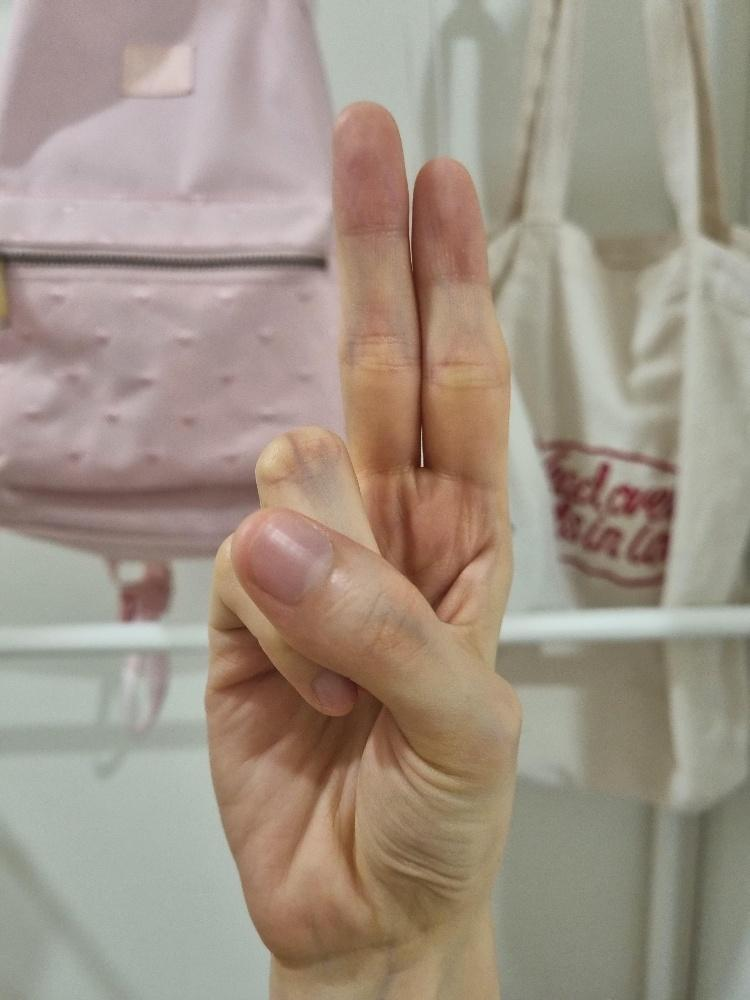u: (200, 98, 526, 966)
